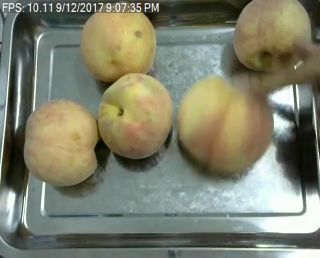Peach: (176, 75, 273, 173), (21, 98, 97, 191), (98, 72, 172, 159), (81, 4, 157, 82), (234, 0, 312, 71)
